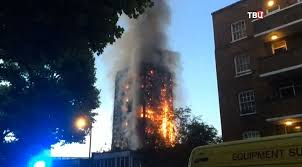fire: (131, 77, 200, 152)
